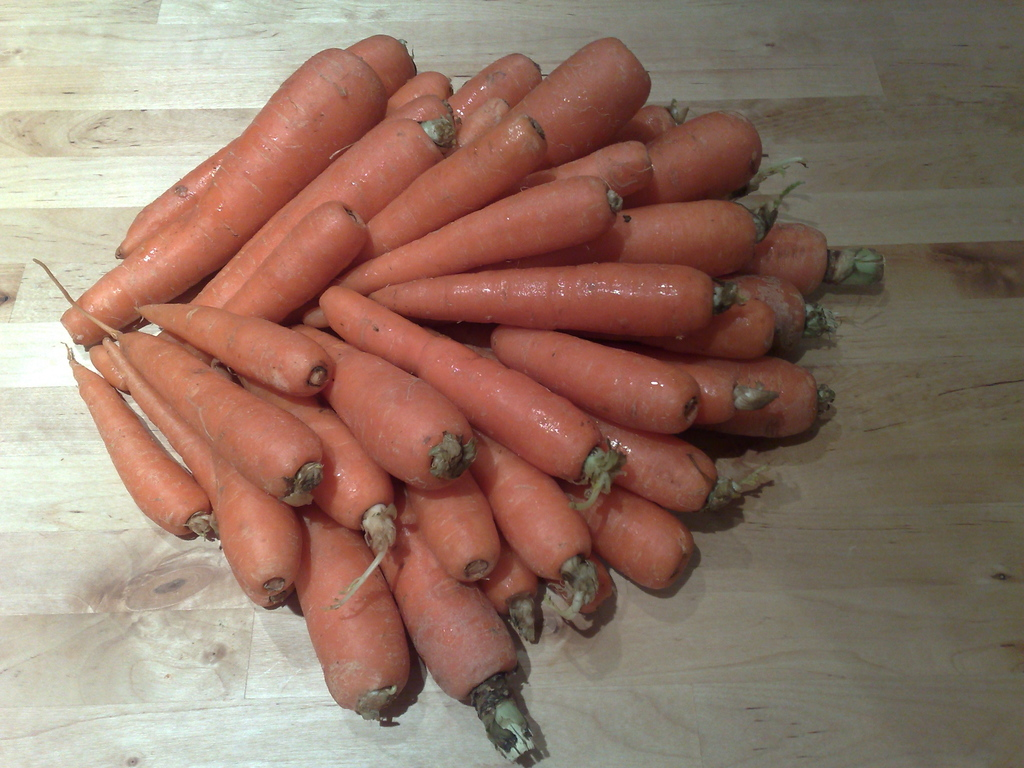Carrot: (32, 34, 886, 764)
